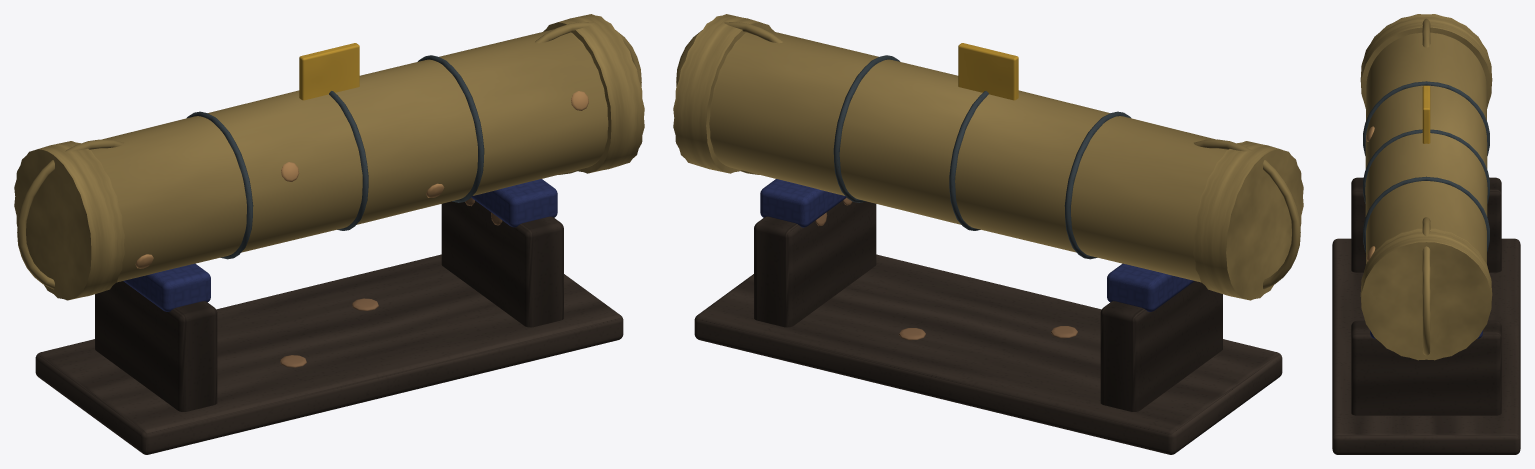
3 renders of one model, left to right at view 1: azimuth 30°, elevation 25°; view 2: azimuth 150°, elevation 25°; view 3: azimuth 270°, elevation 25°, orthographic. The views are drawn at different scales.
Visible parts, largest first — view 1: aged brass fittings, quarter-sawn hardwood, hardwood bevel and dark grain, velvet cushion, blackened strap iron, ochre enamel, peened pin; view 2: aged brass fittings, quarter-sawn hardwood, hardwood bevel and dark grain, velvet cushion, blackened strap iron, ochre enamel; view 3: aged brass fittings, quarter-sawn hardwood, hardwood bevel and dark grain, blackened strap iron, ochre enamel.
Part boxes in pixels (x1,y1,x2,y2): aged brass fittings: (14, 14, 644, 300); quarter-sawn hardwood: (35, 254, 623, 454); hardwood bevel and dark grain: (95, 200, 563, 411); velvet cushion: (123, 179, 557, 311); blackened strap iron: (187, 55, 484, 259); ochre enamel: (299, 43, 359, 100); peened pin: (135, 91, 588, 268); aged brass fittings: (673, 14, 1303, 300); quarter-sawn hardwood: (694, 254, 1282, 454); hardwood bevel and dark grain: (754, 200, 1222, 411); velvet cushion: (760, 179, 1194, 311); blackened strap iron: (833, 55, 1130, 259); ochre enamel: (958, 43, 1018, 100); aged brass fittings: (1360, 14, 1492, 360); quarter-sawn hardwood: (1332, 238, 1520, 454); hardwood bevel and dark grain: (1351, 177, 1501, 415); blackened strap iron: (1363, 81, 1489, 252); ochre enamel: (1422, 85, 1430, 143).
Bounding box in the file's own units: 0.6479 × 0.306 × 0.2.
8 materials, 6 textured.
